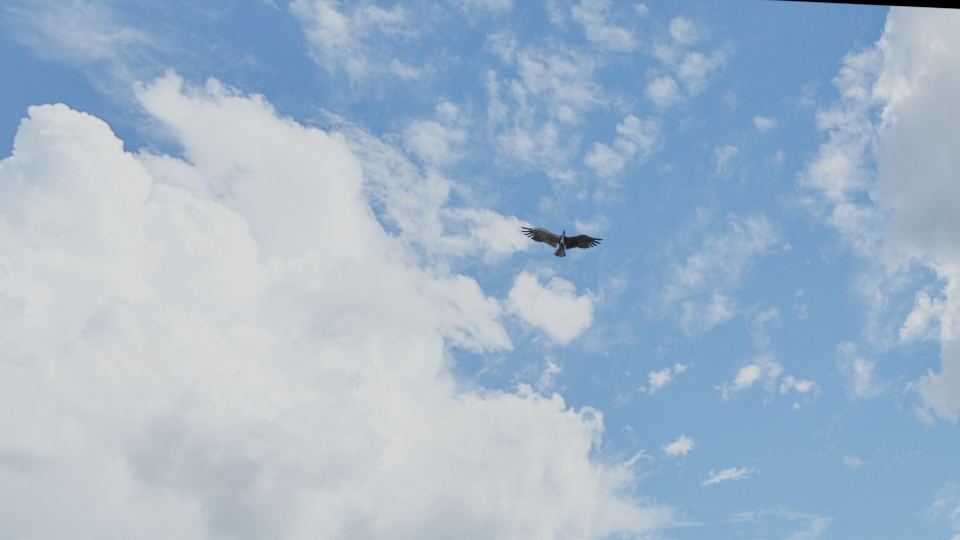bird: (522, 224, 604, 258)
